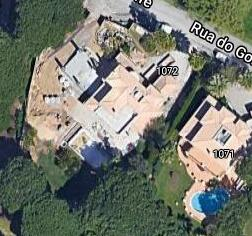pool: (190, 186, 231, 217)
